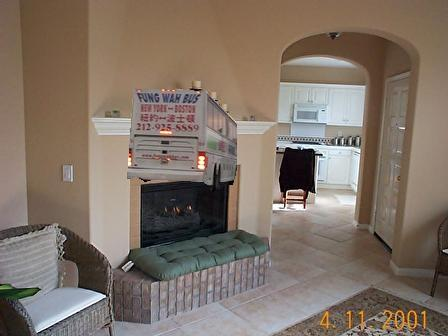tampered: (128, 90, 237, 191)
